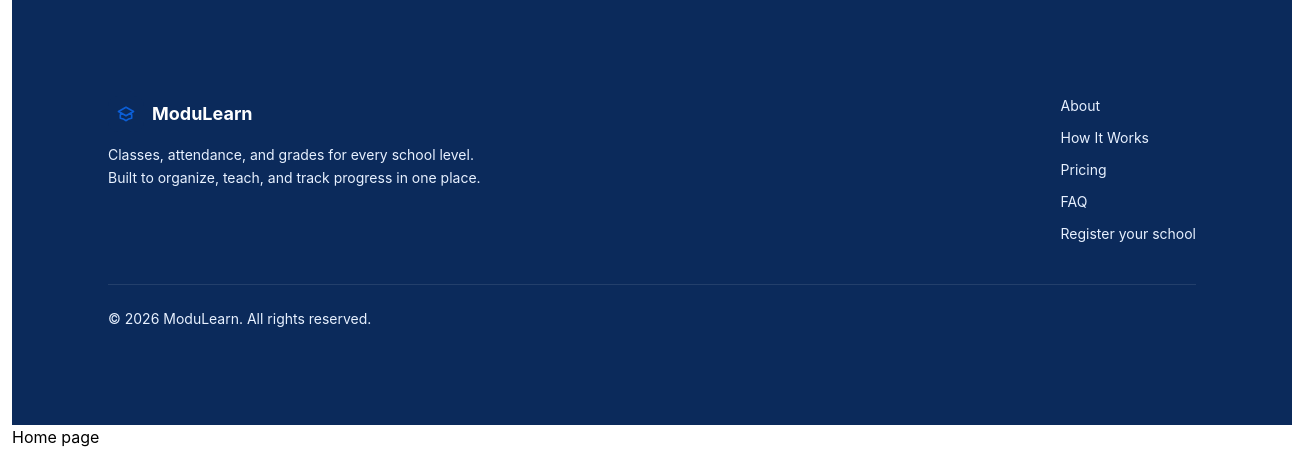
Test: Footer › navigates to school registration
This screenshot has width=1292, height=464.
Click the button "Register your school": (1128, 234) x1=1060 y1=224 x2=1196 y2=244
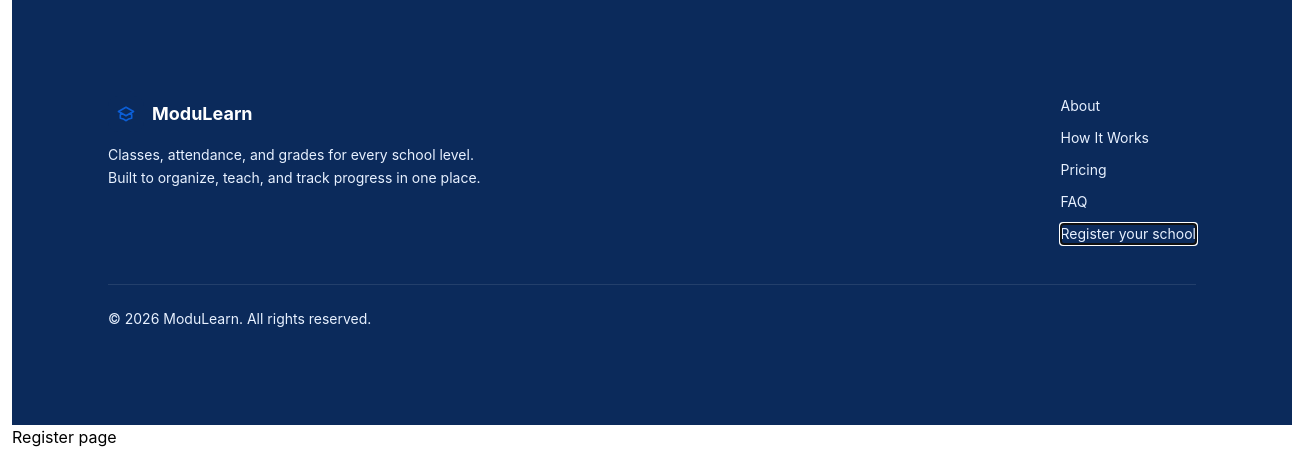
expect the text "Register page" is shown: met, box x1=12 y1=427 x2=116 y2=447
